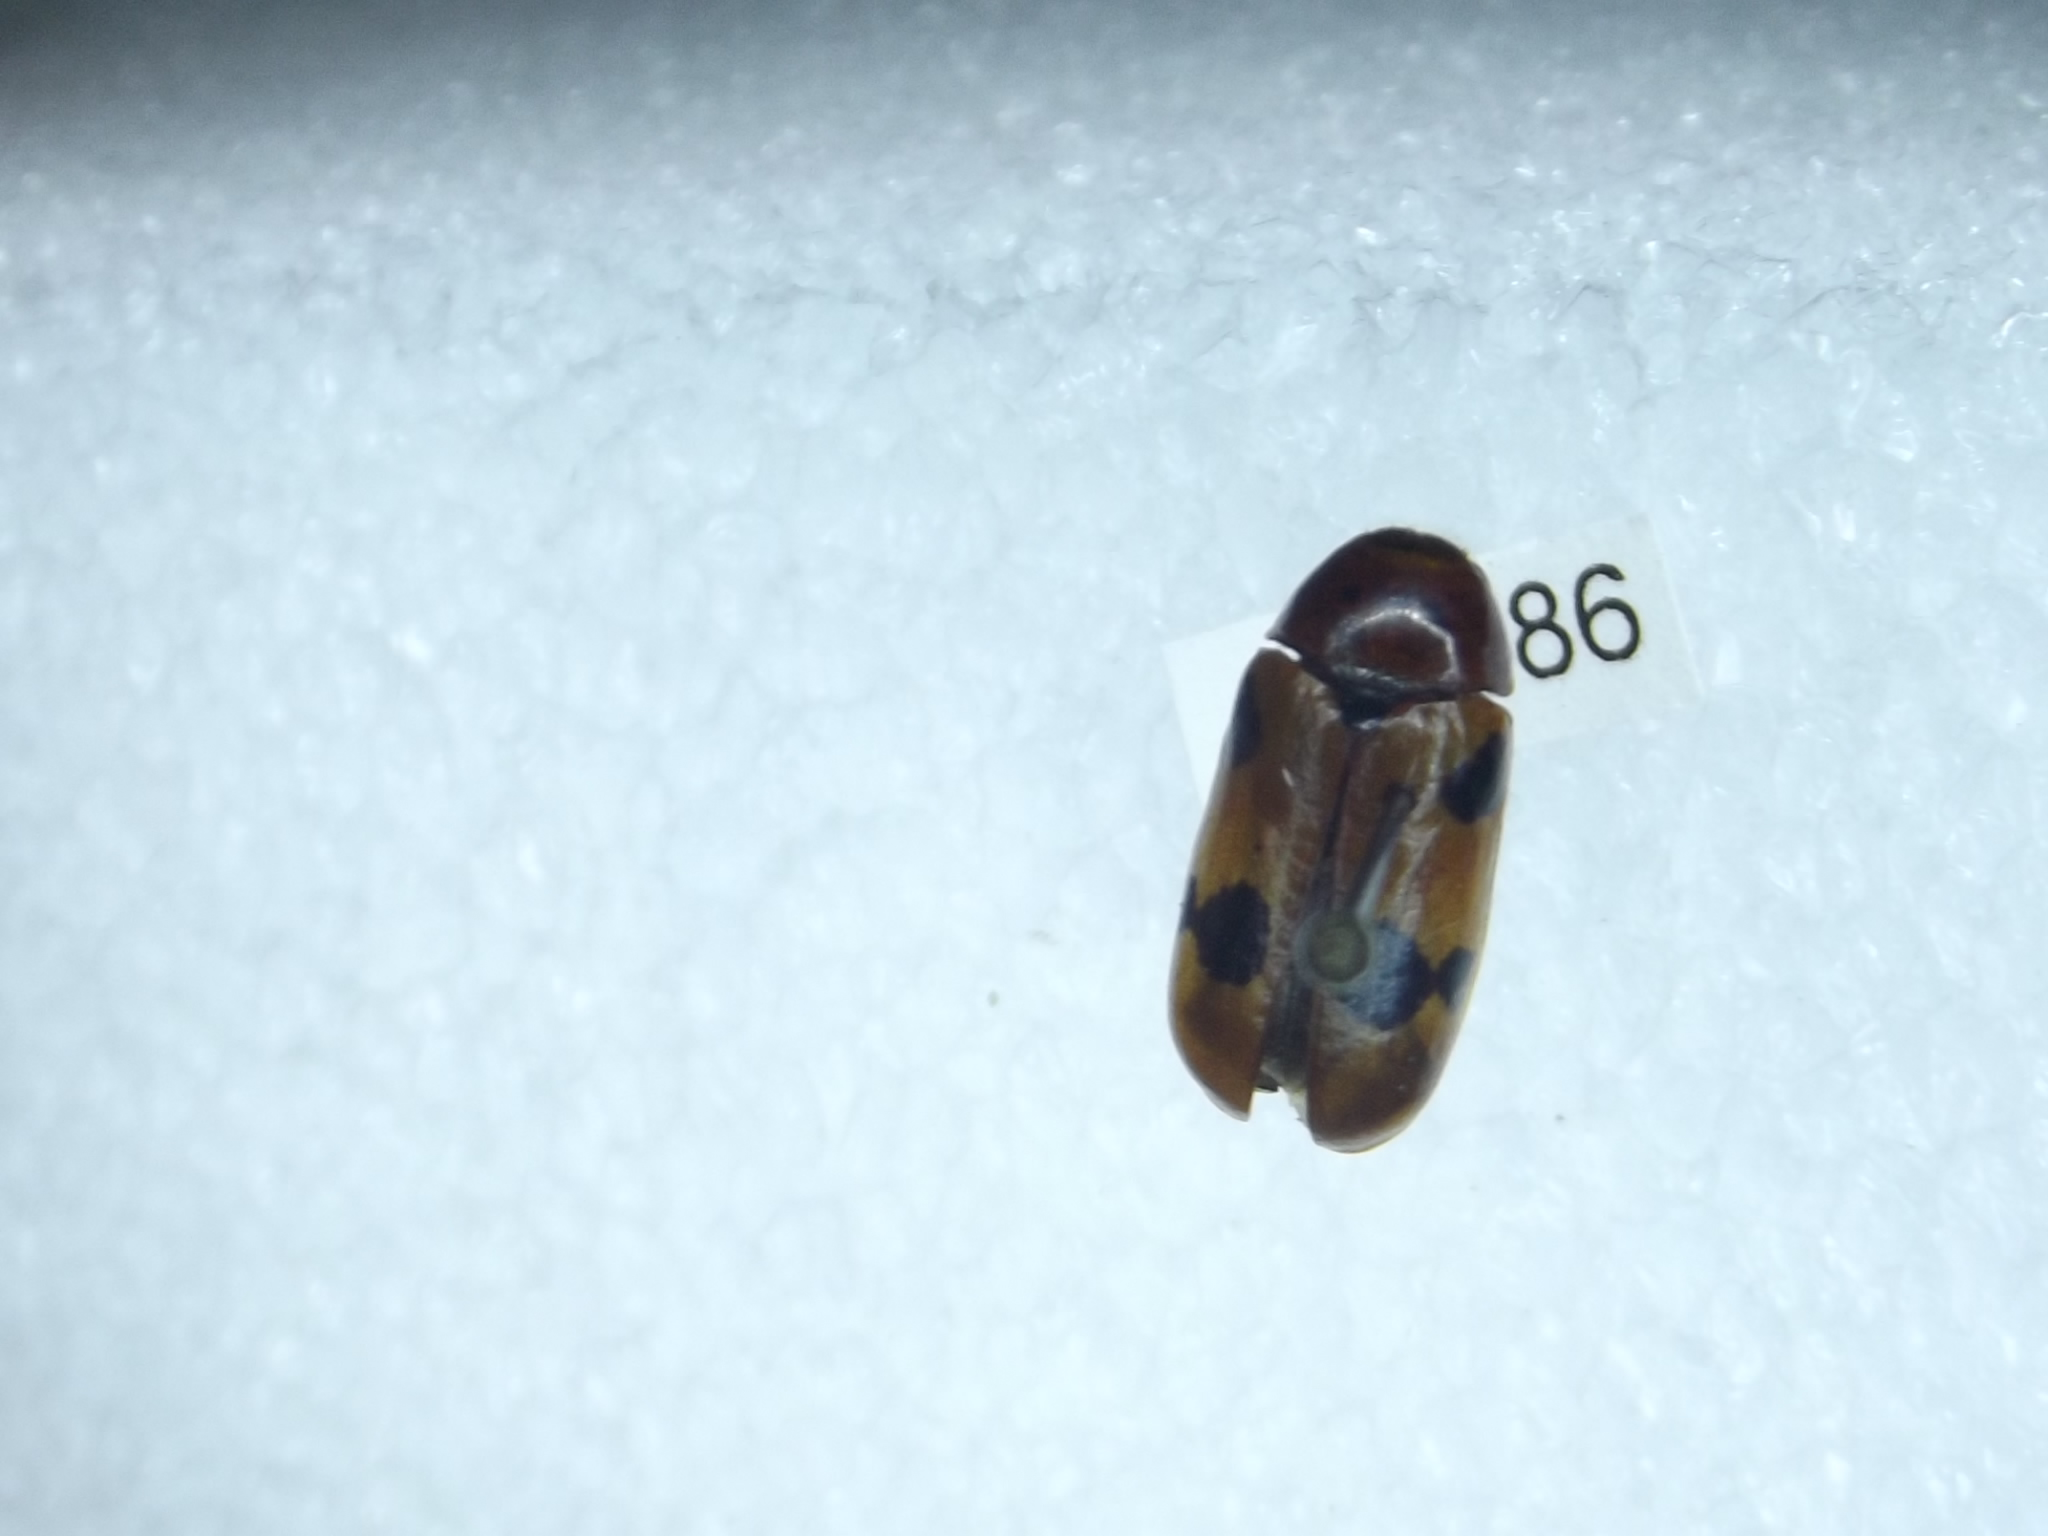Clytra_novempunctata: (1145, 502, 1529, 1170)
